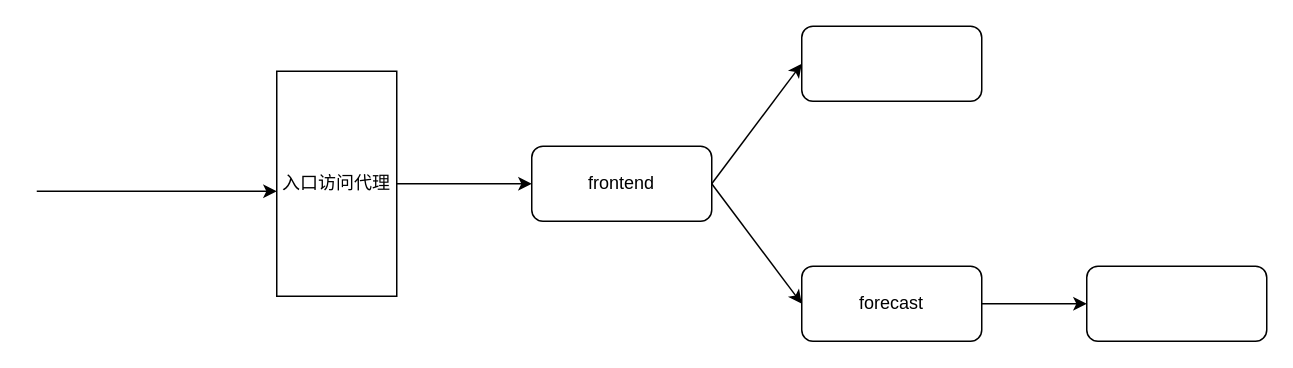
This 1293x368 diagram has some shape labels left out. The shapes that lost their labels are listed below. From the top down, each one's box as (x1, y1, x2, y2) in pixels, then its label:
(800, 25, 982, 101): advertisement
(1085, 265, 1267, 341): recommendation
